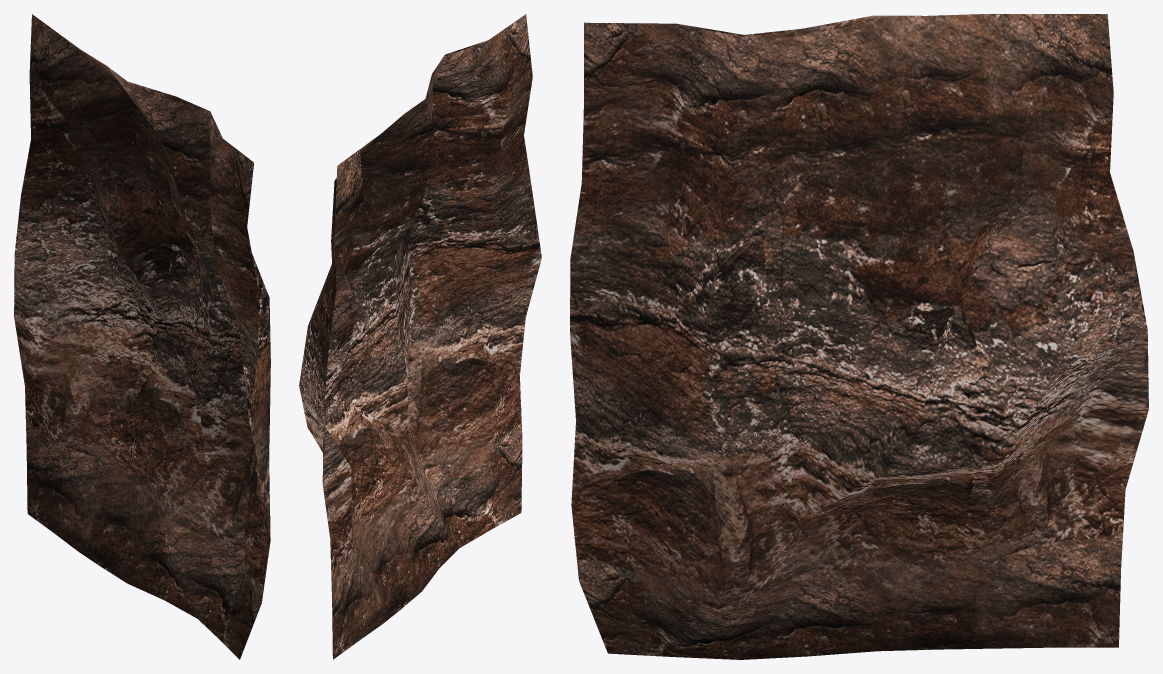
File: sm_wall_cave.fbx
The picture shows the model from 3 angles, left to right: view 1: azimuth 30°, elevation 25°; view 2: azimuth 150°, elevation 25°; view 3: azimuth 270°, elevation 25°; orthographic projection. The views are drawn at different scales.
Parts seen in each view (by area): view 1: sm_wall_cave; view 2: sm_wall_cave; view 3: sm_wall_cave.
Boxes of the visible parts, box(x1,y1,x2,y2) form: sm_wall_cave: box(14, 14, 270, 659); sm_wall_cave: box(299, 14, 541, 659); sm_wall_cave: box(570, 14, 1148, 659).
Size of the model in its own units: 1.09 by 6.01 by 4.97.
